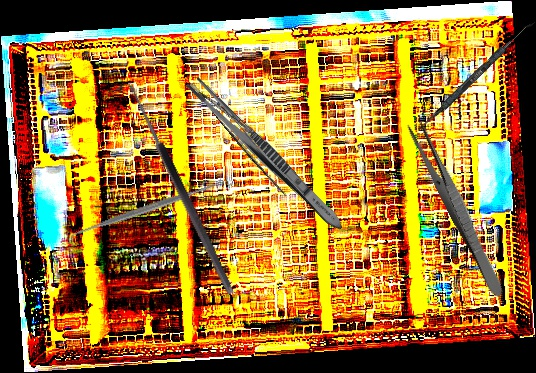Dressing Forceps: (183, 74, 349, 235), (404, 117, 510, 300)
Hook Surgical: (114, 79, 237, 301)
Spatula Surgical: (416, 16, 536, 135), (62, 174, 228, 246)
Tissue Forceps: (189, 67, 306, 202)
